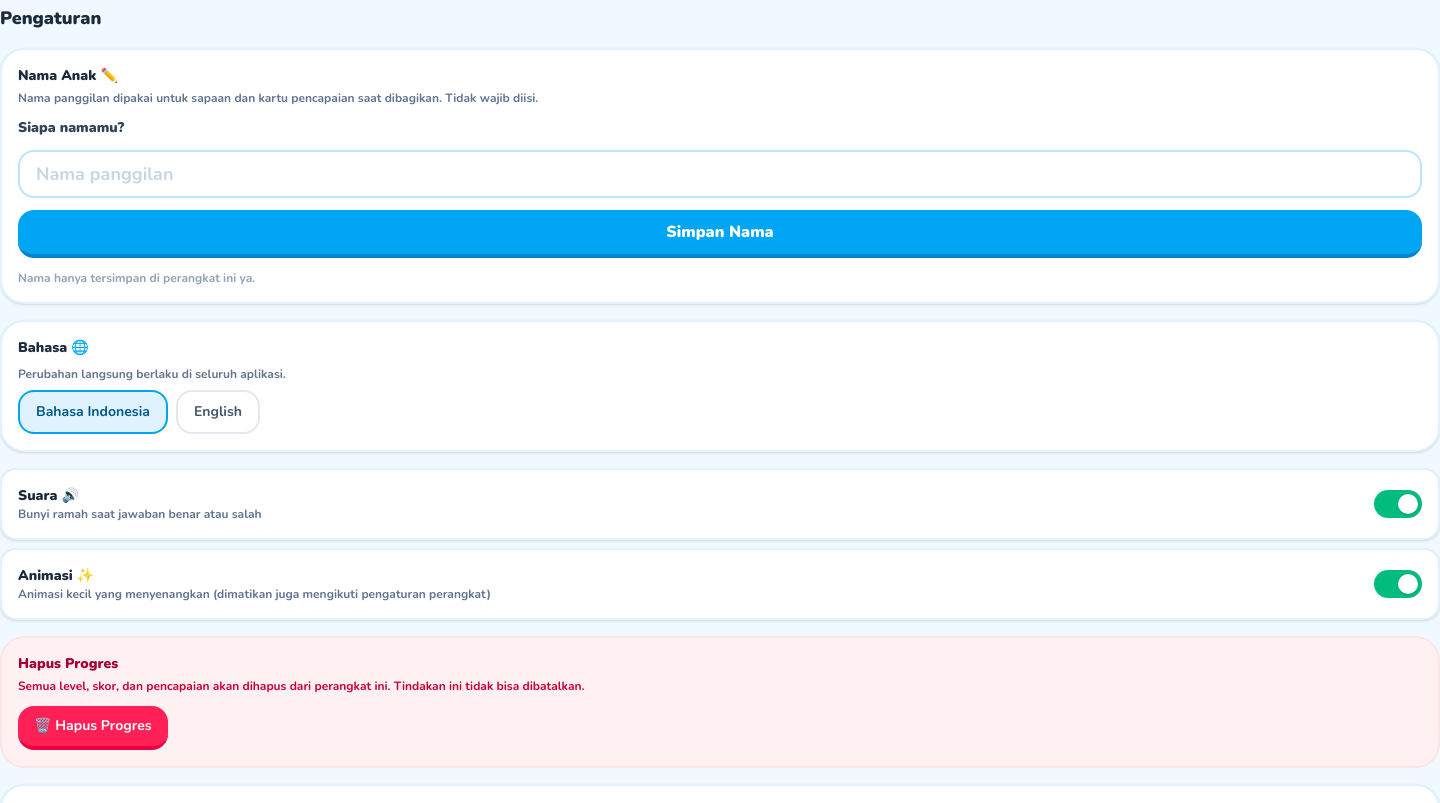
Test: SettingsScreen › dialog konfirmasi hapus progres membatalkan tanpa menghapus
Click the button "🗑️ Hapus Progres" at (93, 728), box [18, 706, 168, 750]
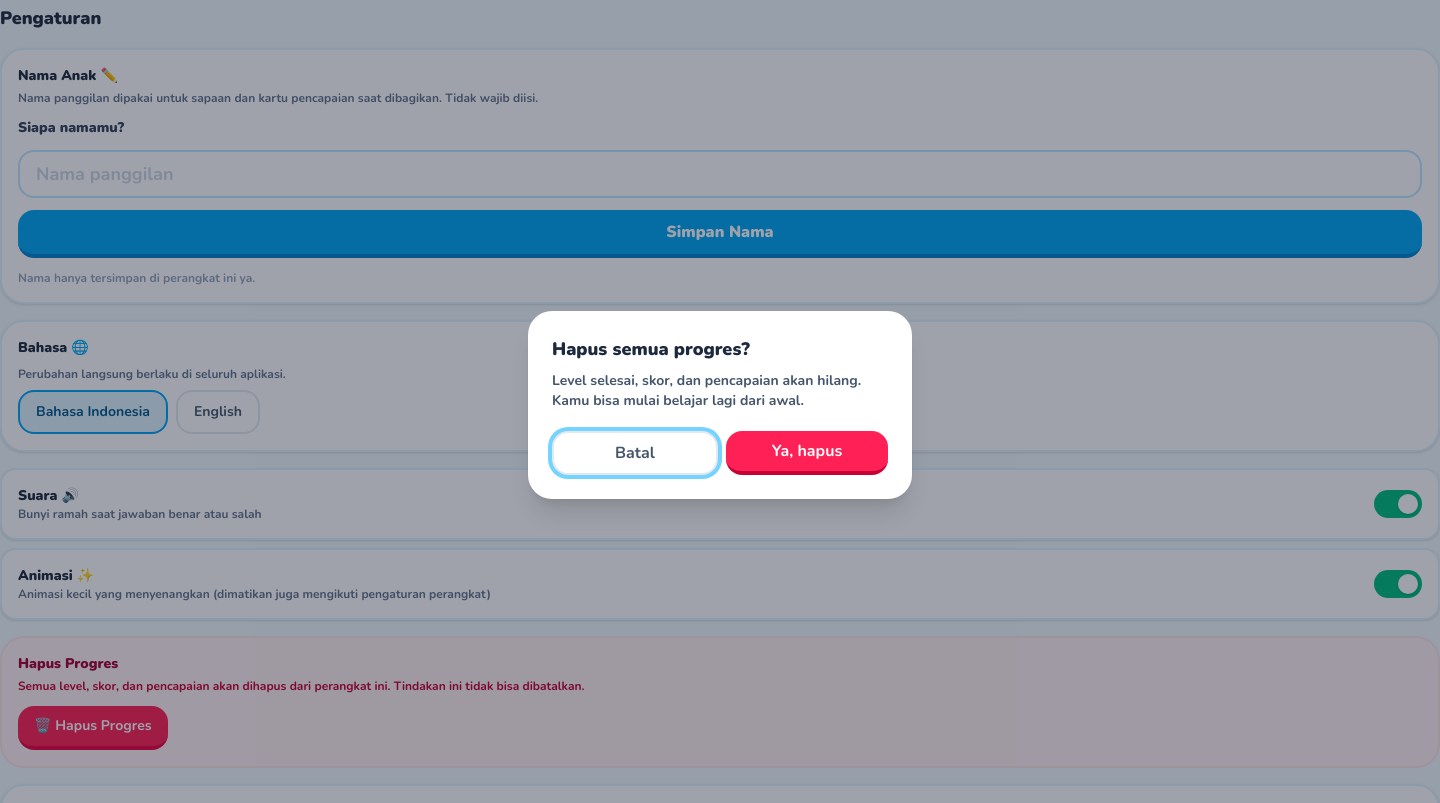
Click the button "Batal" at (635, 453), box [552, 431, 718, 475]
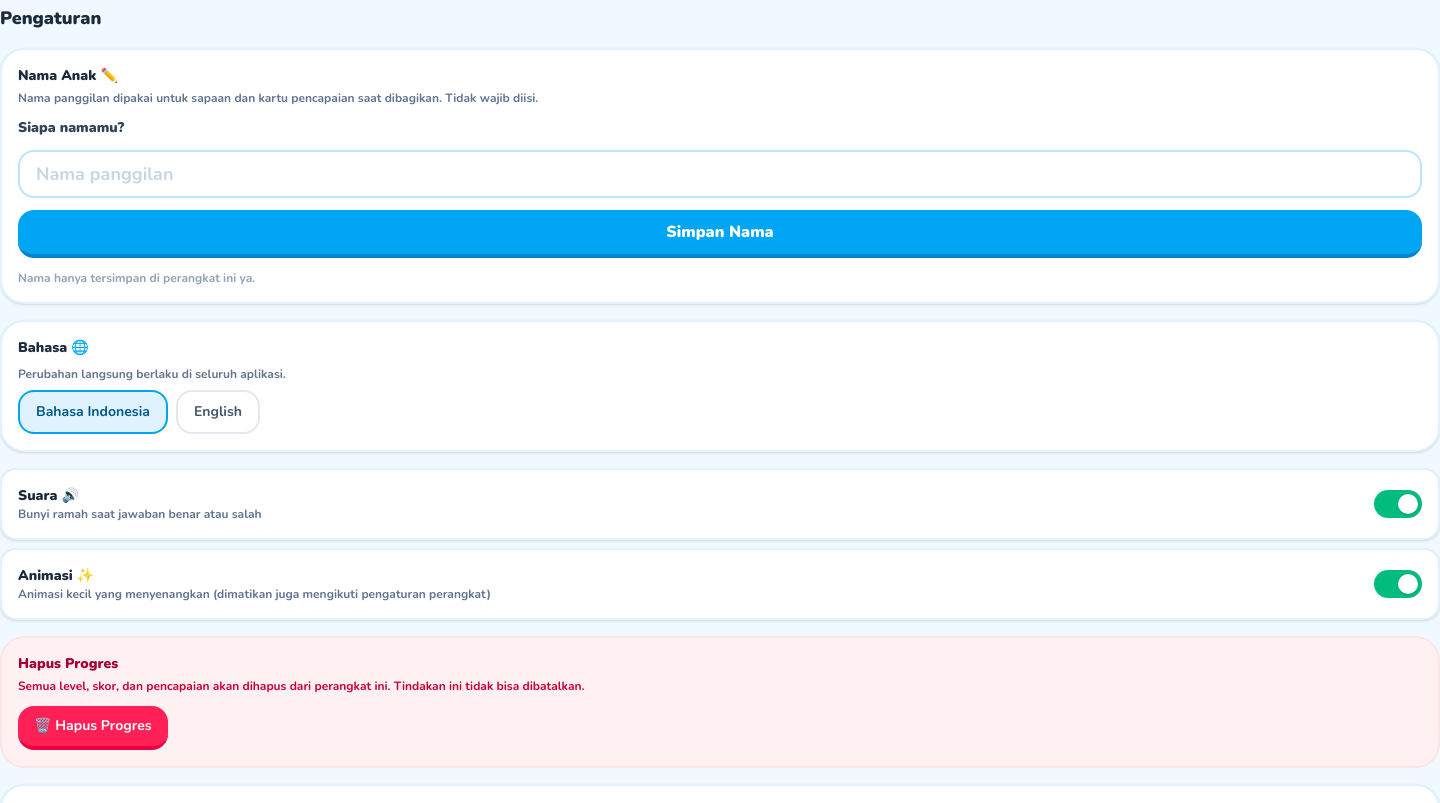
Expected: the button "Ya, hapus" is gone
